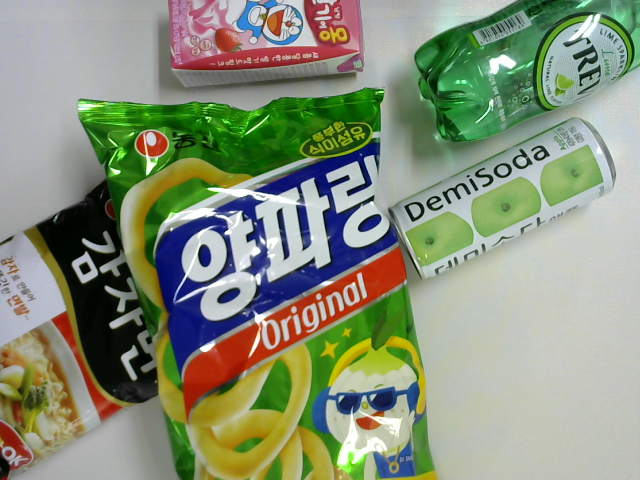Demisoda_Apple_Can_250ml: (389, 118, 617, 281)
Oninon_Ring: (77, 88, 439, 480)
Potato: (1, 178, 159, 480)
Strawberry_E_Mong: (167, 1, 364, 88)
Treviraim_500ml: (415, 1, 640, 142)
